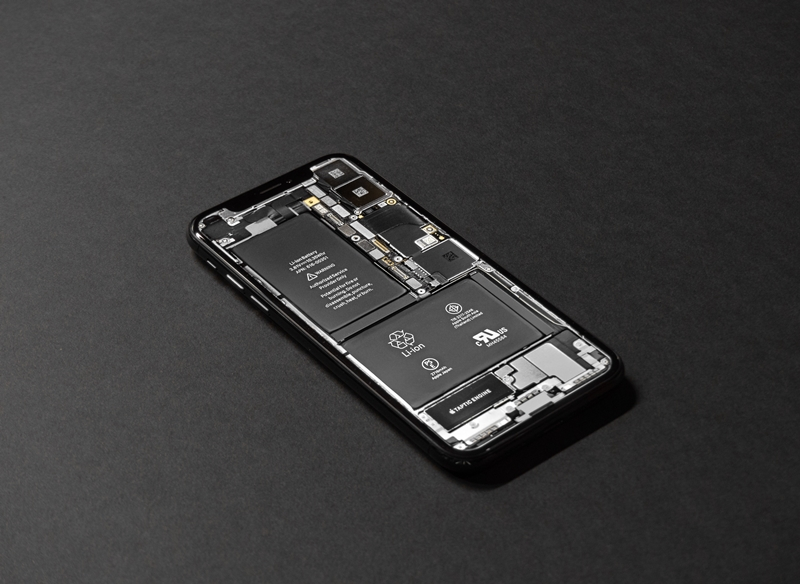Phone: (185, 146, 626, 481)
